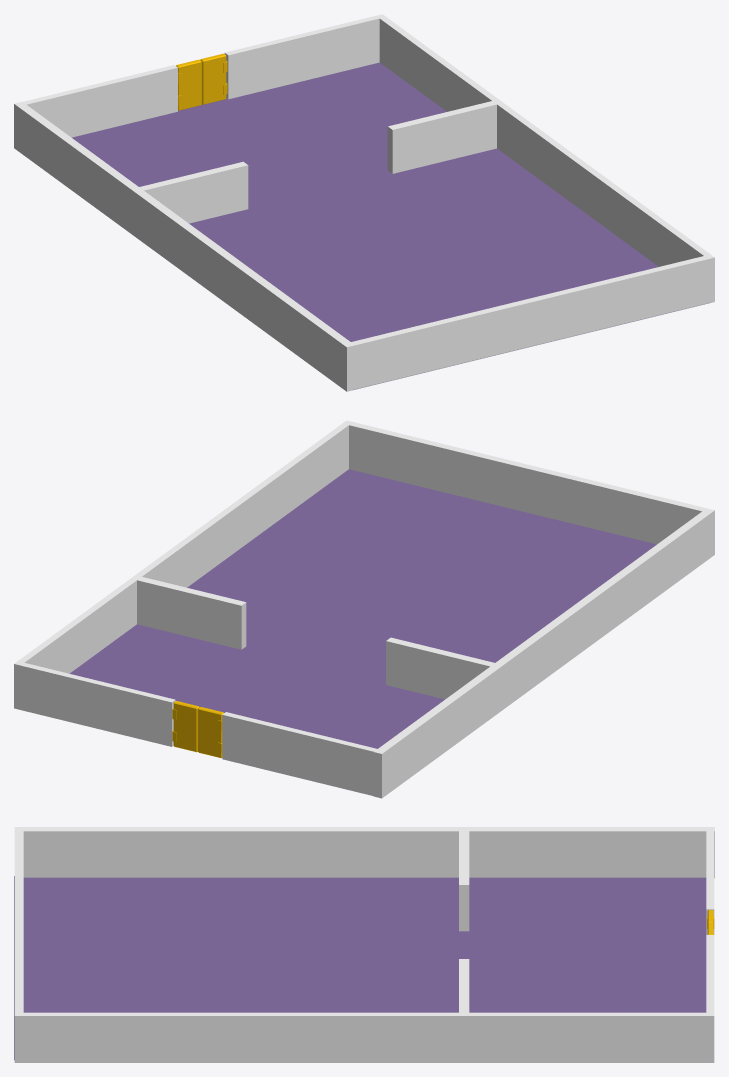
The model's file is maps_89.fbx.
3 views of the same model, one above another, from view 1: azimuth 30°, elevation 25°; view 2: azimuth 150°, elevation 25°; view 3: azimuth 270°, elevation 25° (orthographic). The views are drawn at different scales.
Visible parts, largest first — view 1: wall_01_08_geo, wall_01_07_geo, wall_01_05_geo, wall_01_06_geo, wall_01_09_geo1, wall_01_09_geo, wall_01_07_geo16, wall_01_07_geo8, polySurface161, polySurface165; view 2: wall_01_08_geo, wall_01_07_geo, wall_01_05_geo, wall_01_06_geo, wall_01_09_geo1, wall_01_09_geo, wall_01_07_geo16, wall_01_07_geo8, polySurface161, polySurface165; view 3: wall_01_08_geo, wall_01_06_geo, wall_01_07_geo, wall_01_05_geo, wall_01_07_geo8, wall_01_09_geo, wall_01_09_geo1, wall_01_07_geo16.
Part boxes in pixels (box(x1,y1,x2,y2)): wall_01_08_geo: box(72, 62, 710, 389); wall_01_07_geo: box(14, 101, 354, 391); wall_01_05_geo: box(351, 256, 708, 389); wall_01_06_geo: box(376, 14, 714, 303); wall_01_09_geo1: box(224, 15, 379, 99); wall_01_09_geo: box(23, 65, 177, 137); wall_01_07_geo16: box(387, 101, 496, 173); wall_01_07_geo8: box(139, 161, 248, 223); polySurface161: box(200, 53, 227, 104); polySurface165: box(176, 59, 201, 110); wall_01_08_geo: box(69, 469, 656, 748); wall_01_07_geo: box(373, 508, 714, 798); wall_01_05_geo: box(349, 422, 706, 544); wall_01_06_geo: box(14, 420, 352, 709); wall_01_09_geo1: box(20, 663, 175, 746); wall_01_09_geo: box(222, 712, 377, 795); wall_01_07_geo16: box(137, 577, 246, 649); wall_01_07_geo8: box(386, 637, 495, 699); polySurface161: box(172, 701, 199, 752); polySurface165: box(198, 707, 223, 758); wall_01_08_geo: box(14, 876, 706, 1060); wall_01_06_geo: box(14, 1012, 714, 1062); wall_01_07_geo: box(14, 827, 714, 878); wall_01_05_geo: box(14, 831, 23, 1012); wall_01_07_geo8: box(459, 831, 469, 931); wall_01_09_geo: box(706, 831, 714, 934); wall_01_09_geo1: box(706, 935, 714, 1012); wall_01_07_geo16: box(459, 959, 469, 1012).
Size of the model in its own units: 76.85 by 8.89 by 120.
2 materials, 2 textured.
